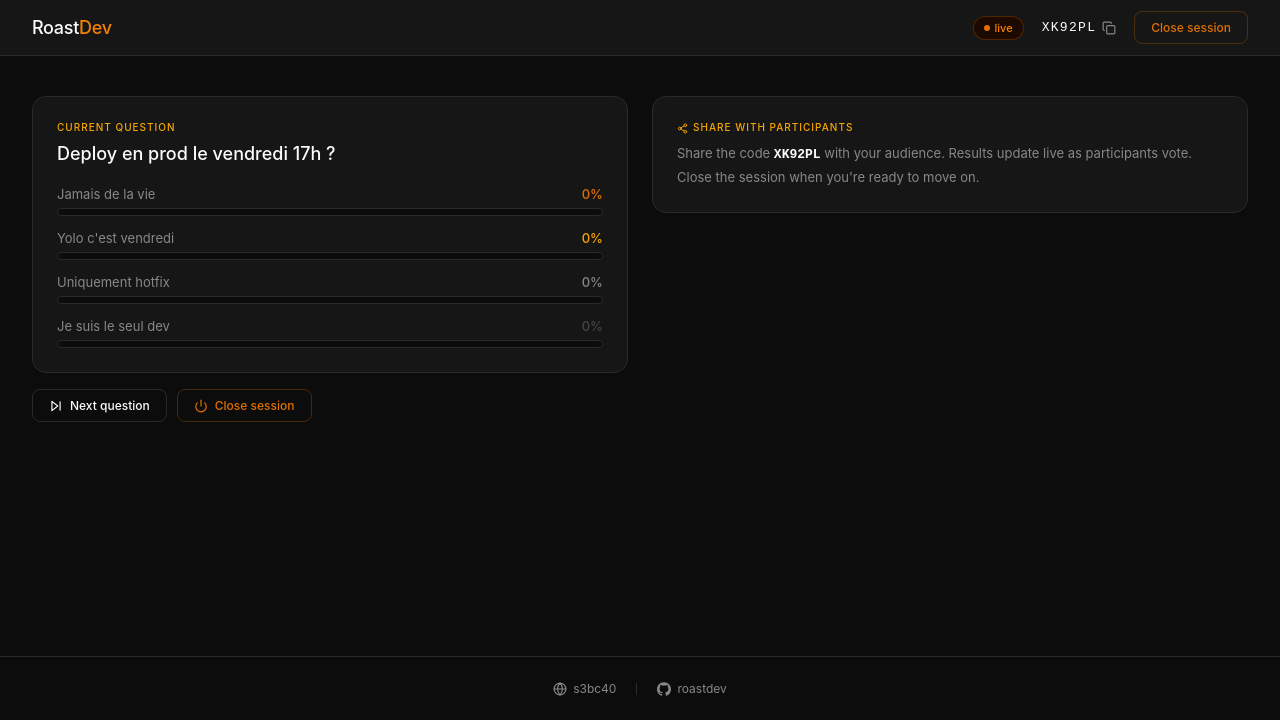
Test: Host › dismisses the modal when Cancel is clicked
The width and height of the screenshot is (1280, 720).
Click the button with aria-label "close session".
click(72, 28)  # box x1=32 y1=17 x2=112 y2=38
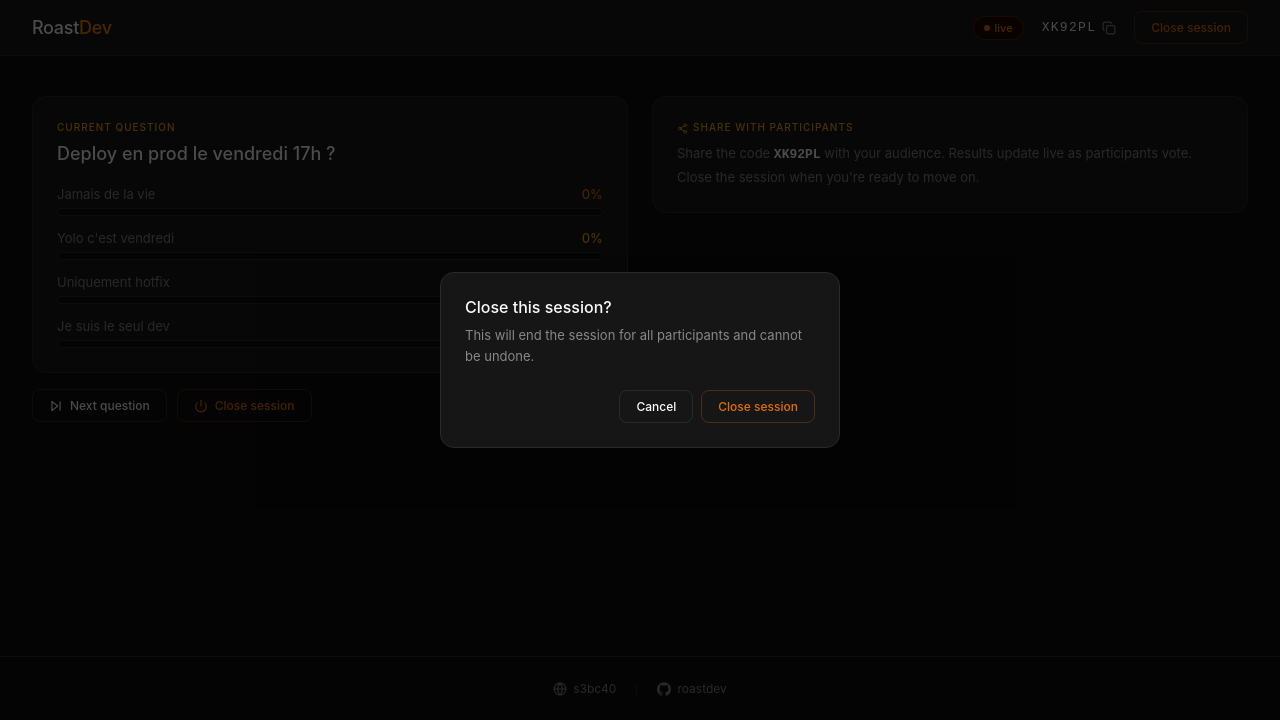
Click the button "Cancel".
click(656, 407)  # box x1=619 y1=390 x2=693 y2=423
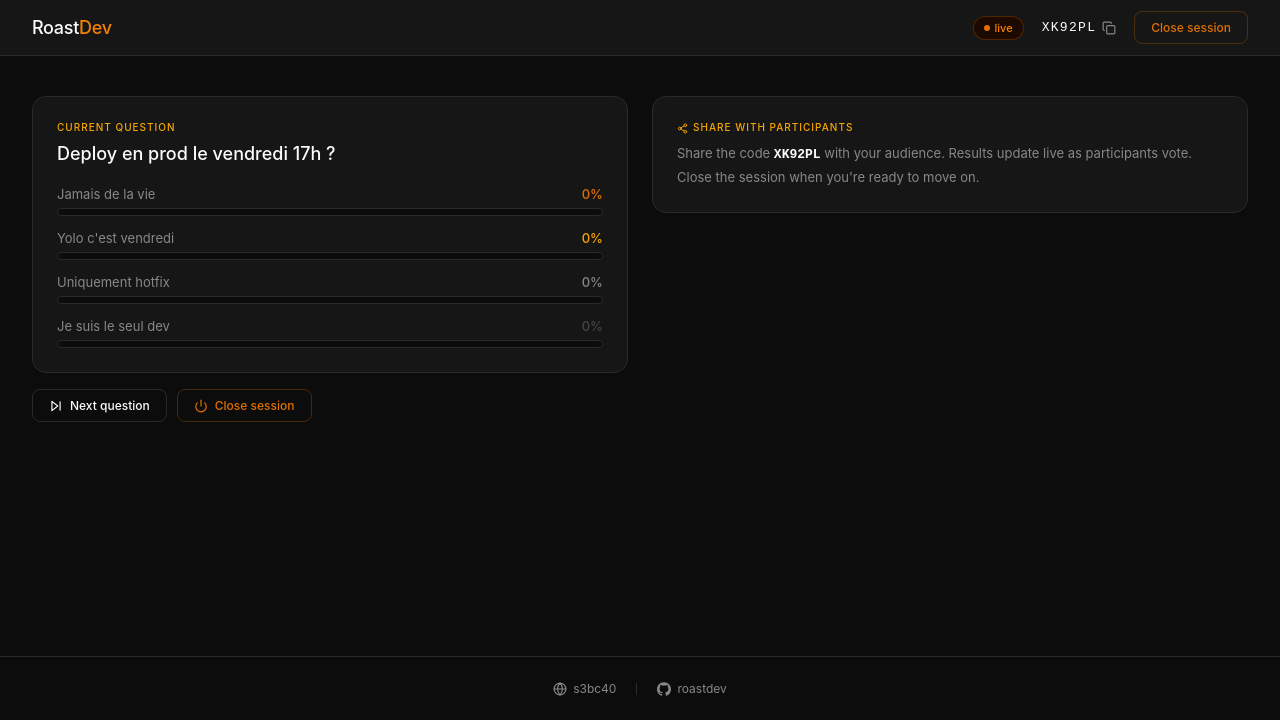
Result: the dialog is gone
